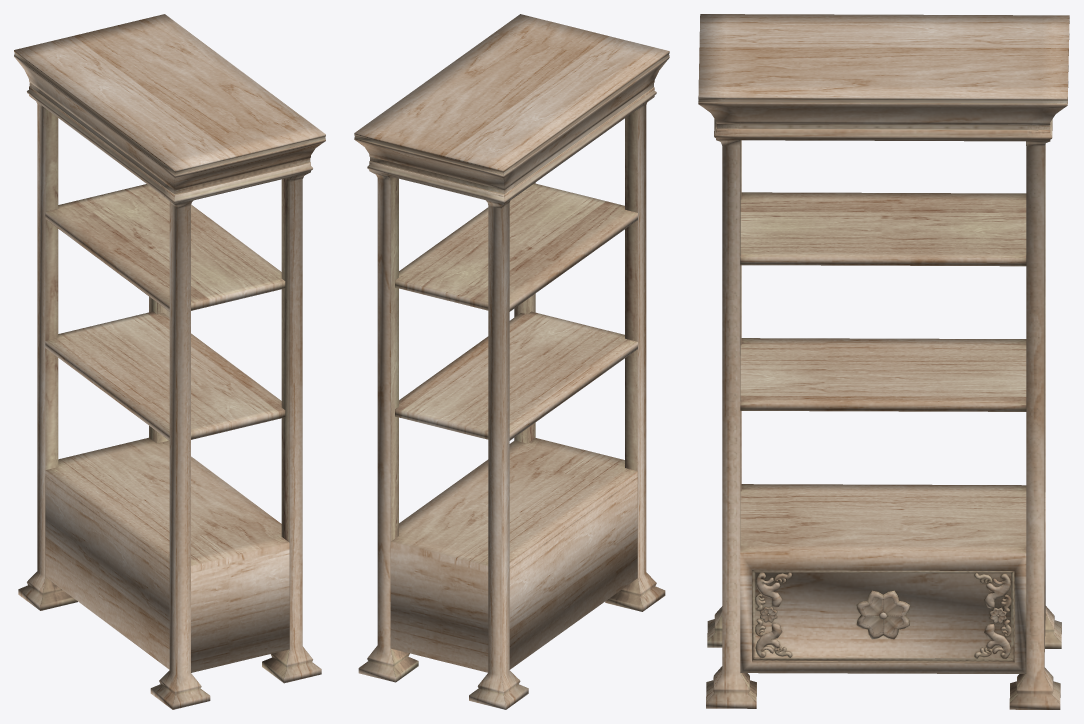
Rendered from movel.obj.
The picture shows the model from 3 angles, left to right: view 1: azimuth 30°, elevation 25°; view 2: azimuth 150°, elevation 25°; view 3: azimuth 270°, elevation 25°; orthographic projection. The views are drawn at different scales.
Parts seen in each view (by area): view 1: 2ndFlr_DisplayCase_Core; view 2: 2ndFlr_DisplayCase_Core; view 3: 2ndFlr_DisplayCase_Core.
Boxes of the visible parts, bbox=[...] form: 2ndFlr_DisplayCase_Core: bbox=[14, 14, 325, 709]; 2ndFlr_DisplayCase_Core: bbox=[354, 14, 669, 709]; 2ndFlr_DisplayCase_Core: bbox=[698, 14, 1069, 709].
Size of the model in its own units: 47.53 by 162 by 88.68.
